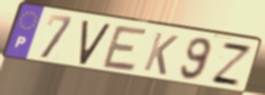7: (38, 12, 74, 63)
9: (178, 37, 213, 82)
E: (100, 24, 150, 74)
K: (141, 31, 180, 78)
V: (77, 19, 113, 66)
Z: (208, 40, 255, 89)
